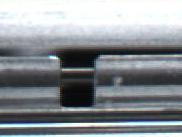oneu: (49, 49, 103, 113)
